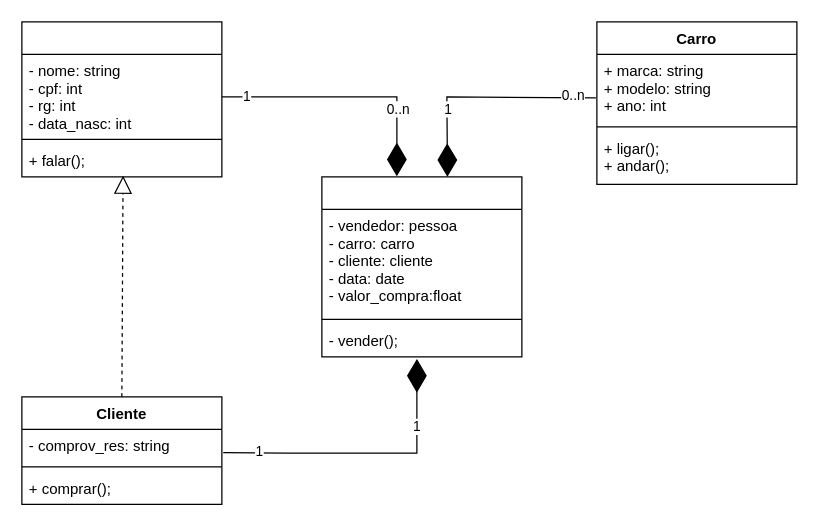
The diagram is 819 pixels wide and 530 high, and some of its shapes have lost their labels. Each missing label, with the box of its shape:
Pessoa: (21, 21, 222, 177)
Venda: (321, 176, 522, 357)
